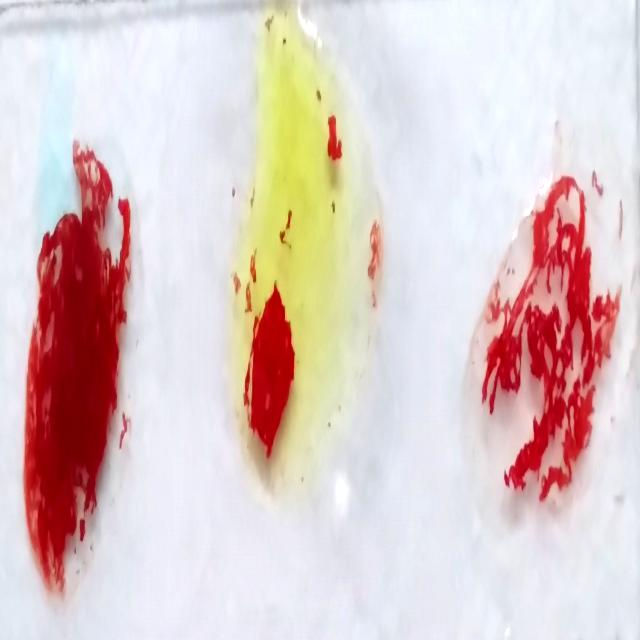A: (21, 110, 123, 585)
B: (236, 9, 364, 514)
D: (475, 176, 618, 546)
